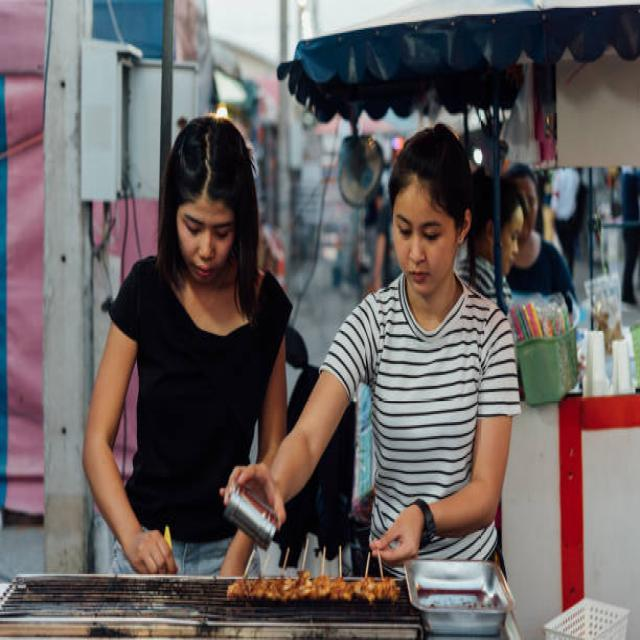Emperan: (0, 437, 585, 640)
